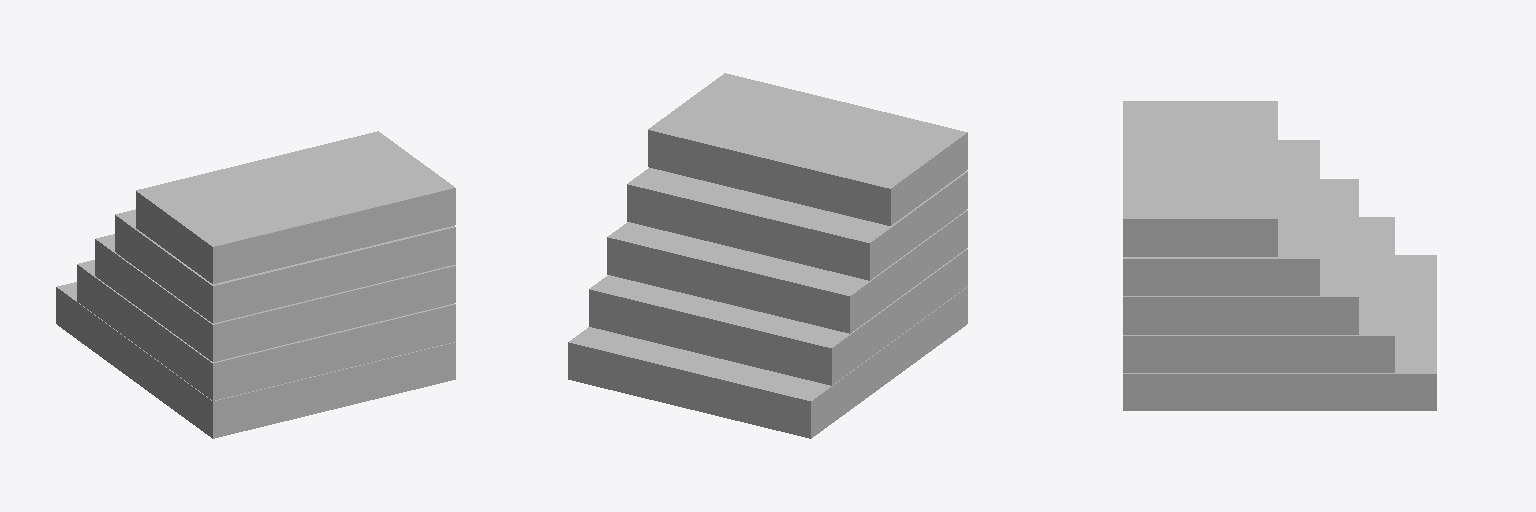
Rendered from stairs.obj.
The picture shows the model from 3 angles: view 1: azimuth 30°, elevation 25°; view 2: azimuth 150°, elevation 25°; view 3: azimuth 270°, elevation 25°; orthographic projection.
Parts seen in each view (by area): view 1: stairs5; view 2: stairs5; view 3: stairs5.
Boxes of the visible parts, x1=… form: stairs5: x1=56, y1=131, x2=455, y2=438; stairs5: x1=568, y1=73, x2=967, y2=438; stairs5: x1=1123, y1=101, x2=1436, y2=410.
Size of the model in its own units: 3.07 by 2.31 by 3.43.